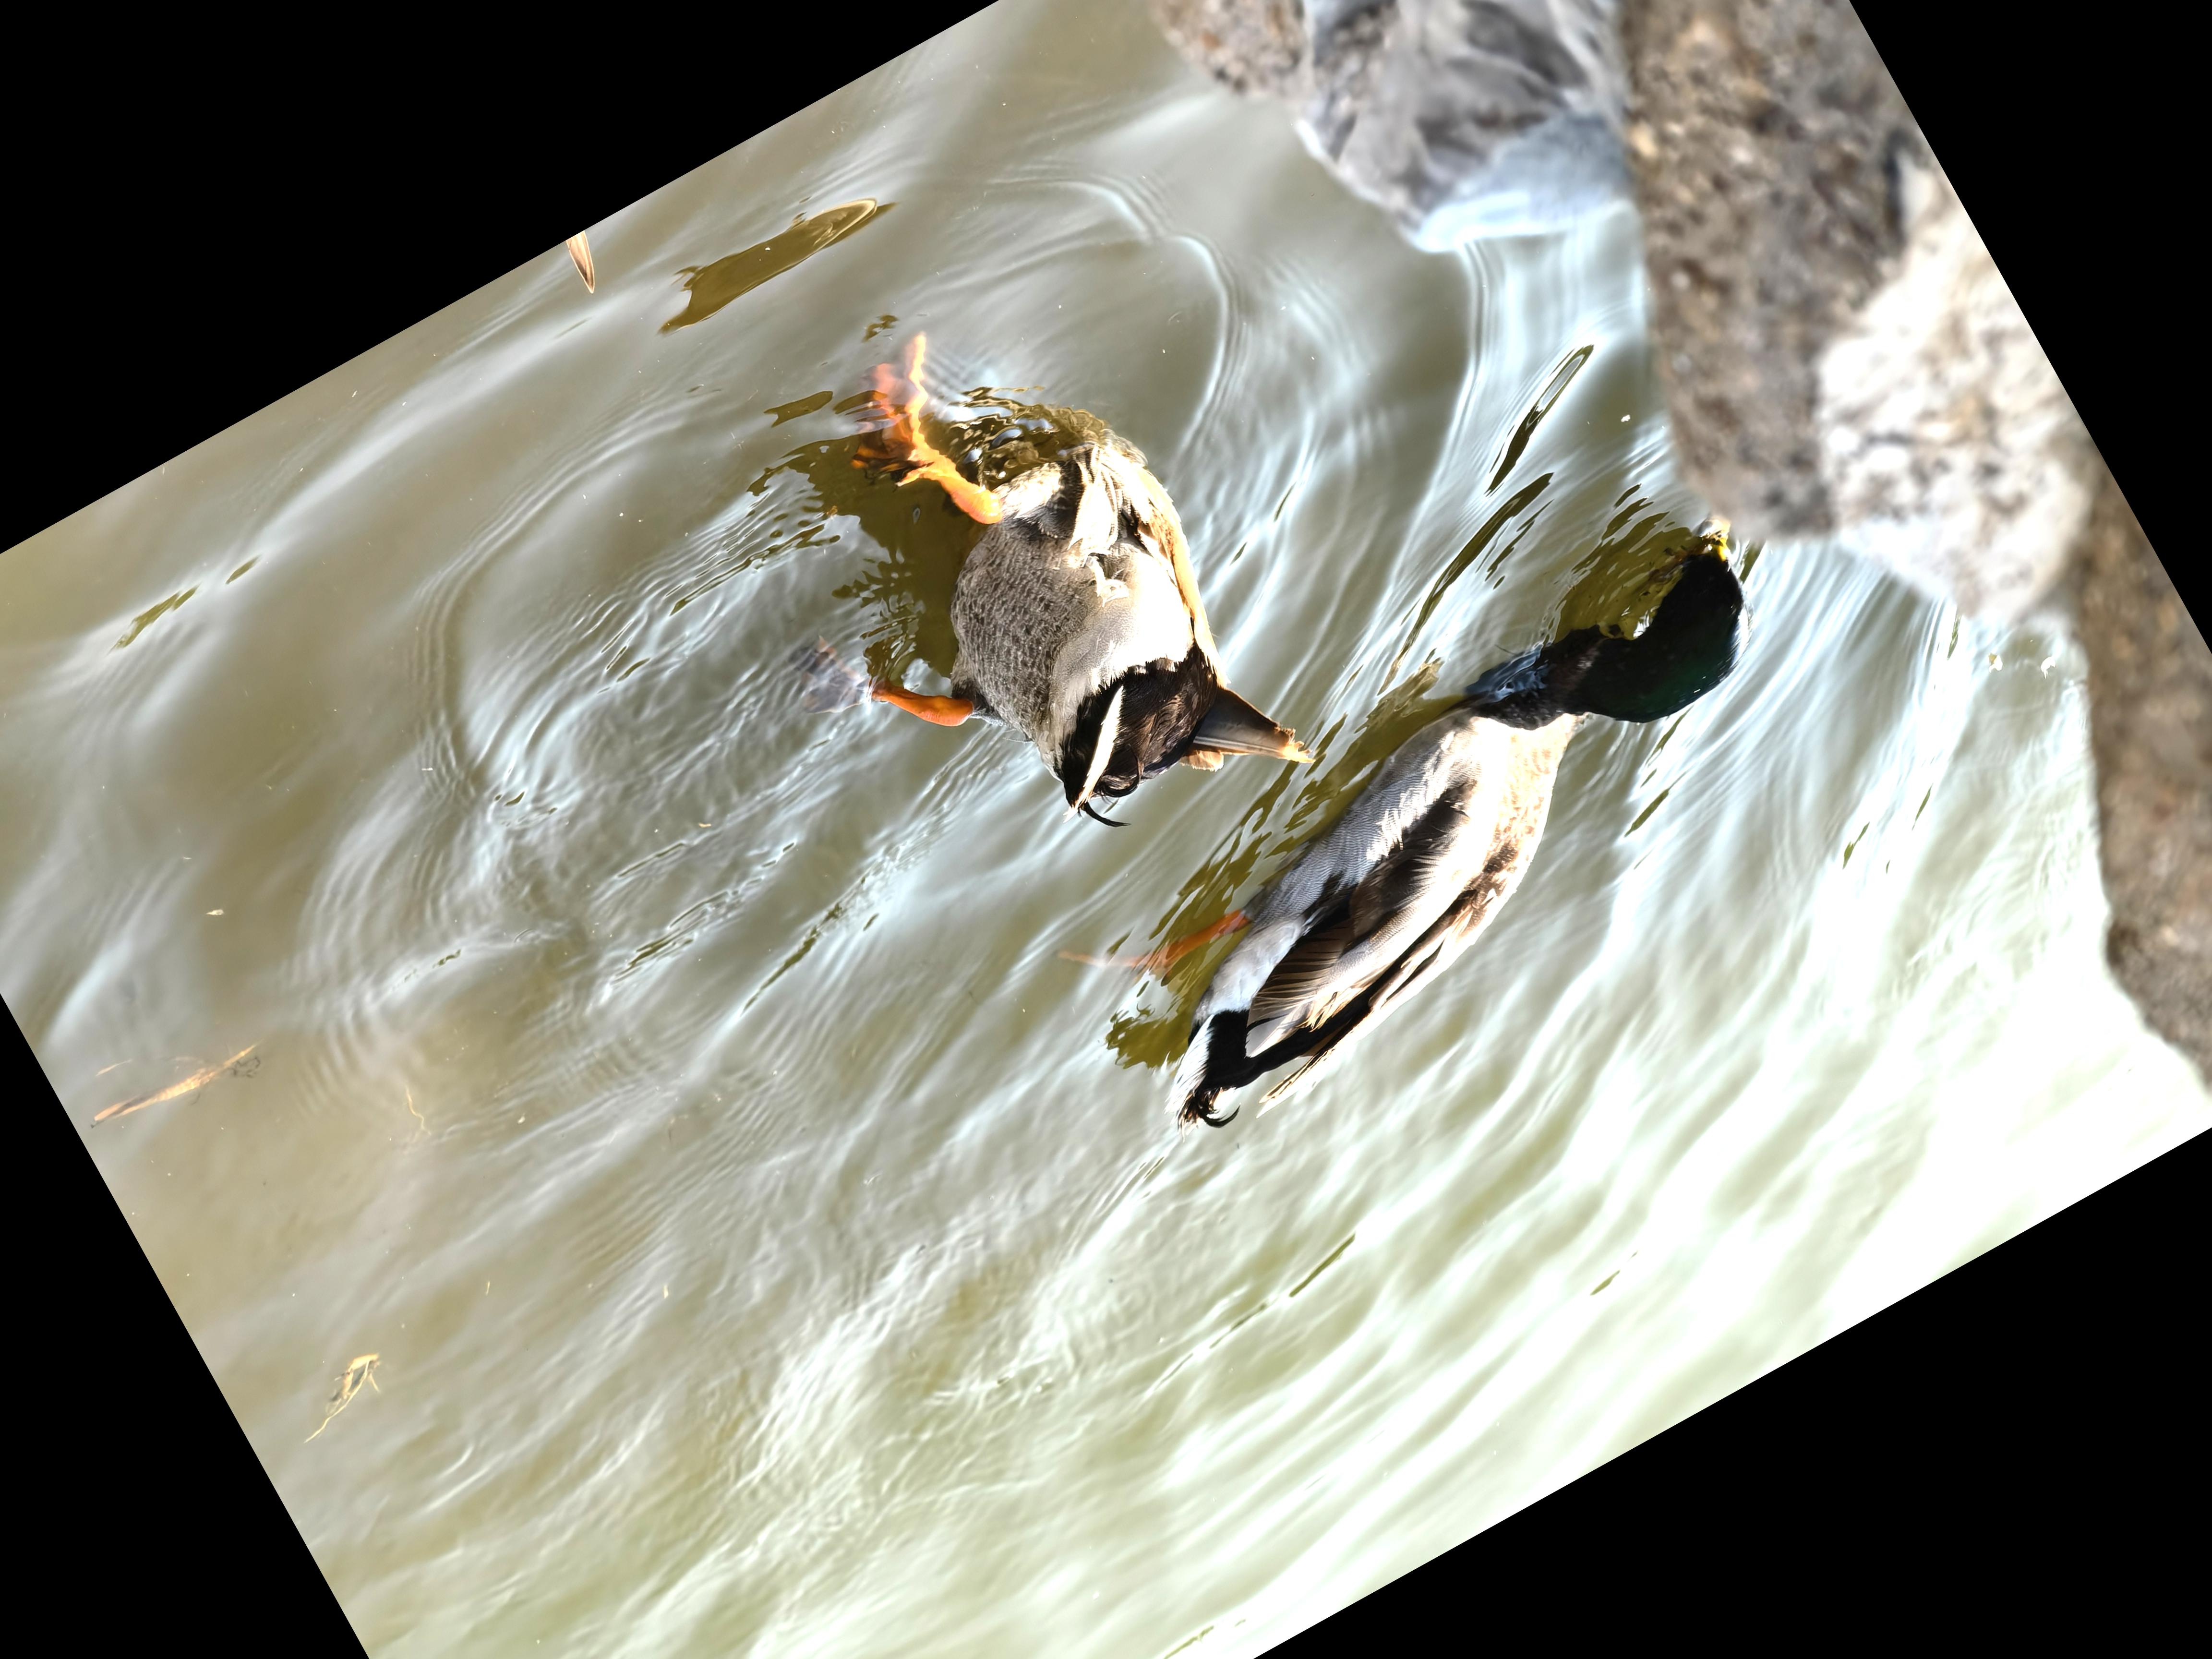duck: (951, 437, 1940, 1234), (697, 234, 1376, 964)
